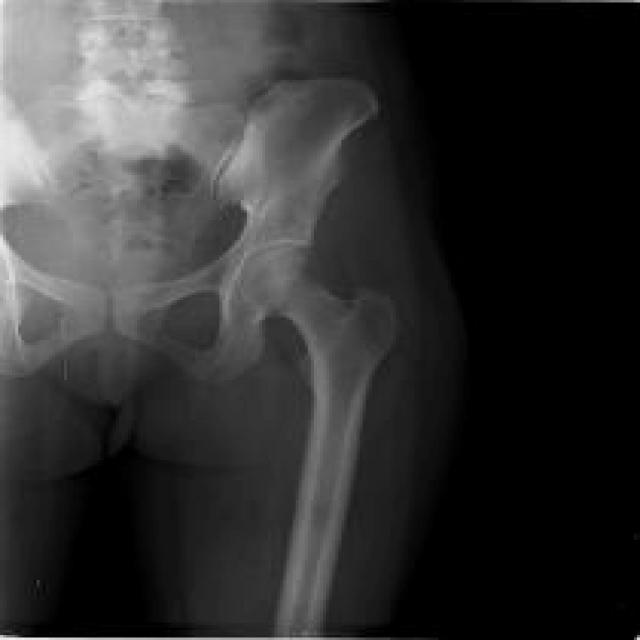normal: (115, 78, 395, 631), (0, 234, 111, 377)
